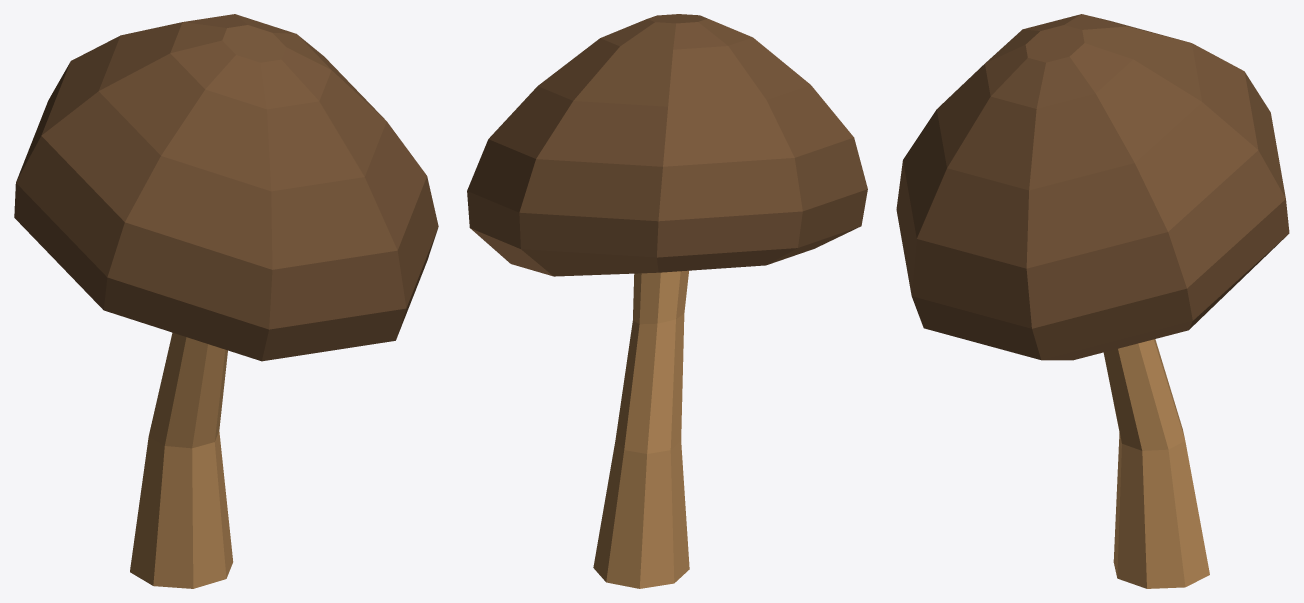
Rendered from RW_mushroom_brown_single_small.fbx.
3 renders of one model, left to right at view 1: azimuth 30°, elevation 25°; view 2: azimuth 150°, elevation 25°; view 3: azimuth 270°, elevation 25°, orthographic. The views are drawn at different scales.
Parts seen in each view (by area): view 1: Circle.029; view 2: Circle.029; view 3: Circle.029.
Boxes of the visible parts, x1=… form: Circle.029: x1=14, y1=14, x2=438, y2=588; Circle.029: x1=467, y1=14, x2=867, y2=588; Circle.029: x1=896, y1=14, x2=1289, y2=588.
Size of the model in its own units: 0.4463 by 0.6728 by 0.4435.
